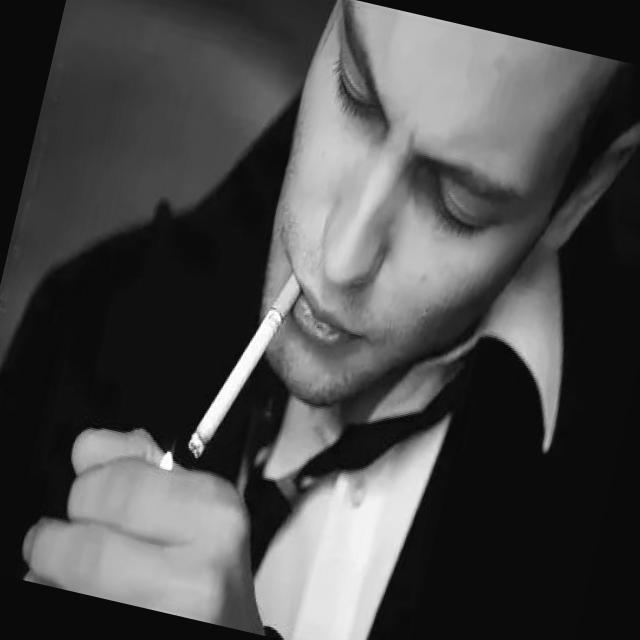cigarette: (182, 248, 309, 481)
